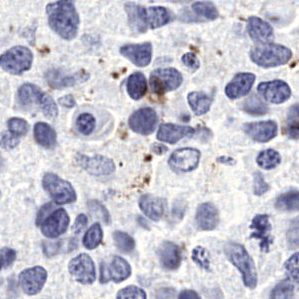Lymphocyte: (148, 76, 168, 104)
